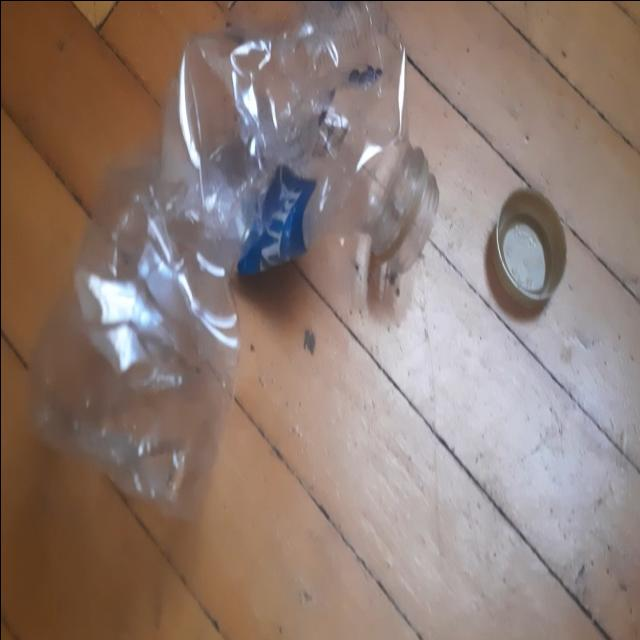Plastic: (28, 2, 438, 522)
